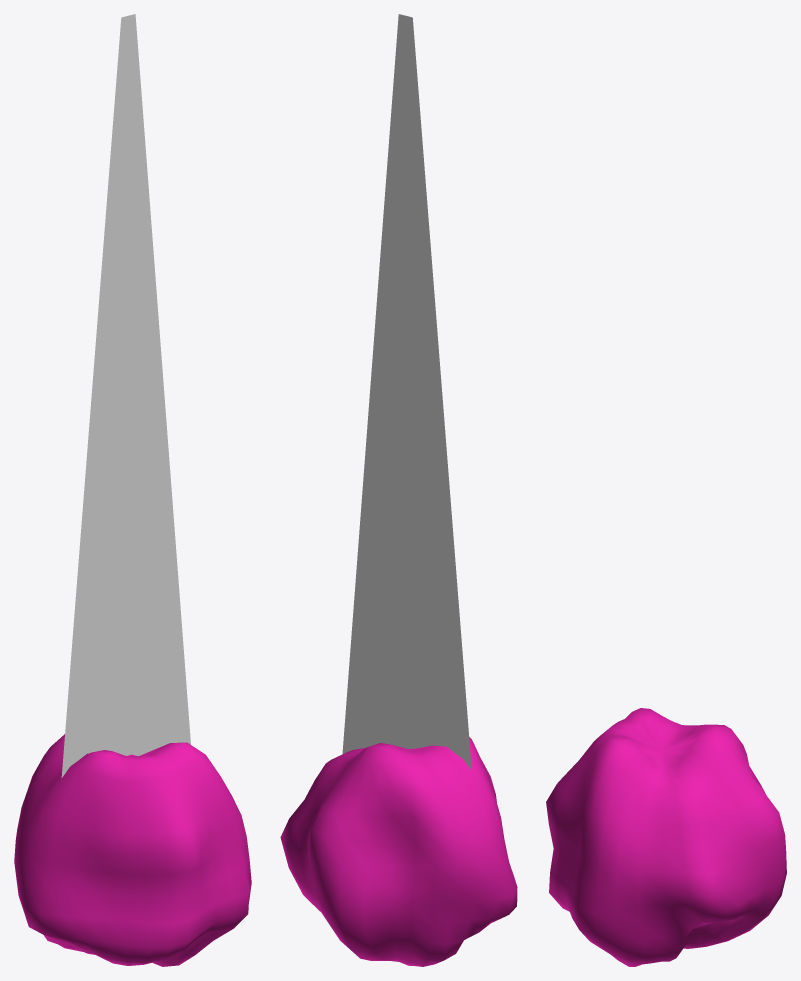
Rendered from fallingStarsMeteorSticky.fbx.
The picture shows the model from 3 angles, left to right: view 1: azimuth 30°, elevation 25°; view 2: azimuth 150°, elevation 25°; view 3: azimuth 270°, elevation 25°; orthographic projection.
Visible parts, largest first — view 1: Sphere; view 2: Sphere; view 3: Sphere.
Boxes of the visible parts, left/top/right/bottom form: Sphere: left=14, top=14, right=251, bottom=966; Sphere: left=280, top=14, right=517, bottom=966; Sphere: left=546, top=708, right=786, bottom=966.
Size of the model in its own units: 880 by 3781 by 882.
